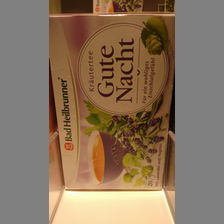tea: (50, 12, 174, 192)
